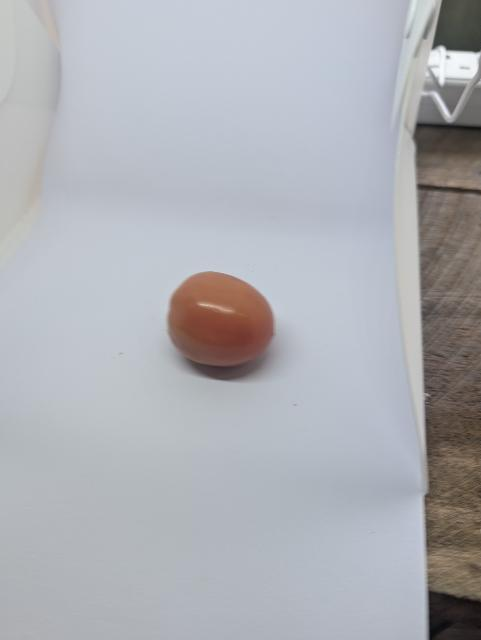red: (161, 269, 282, 370)
